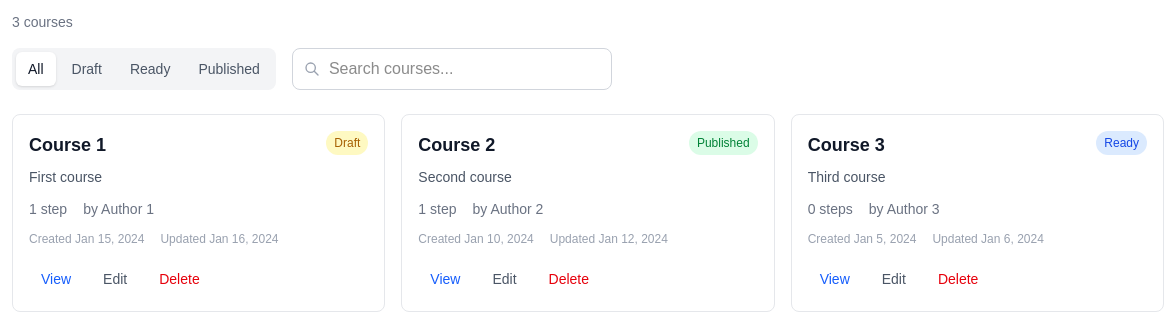
Test: CourseList › Status Filter › should filter by draft status
Step 1. Click the button "Draft" → (87, 69), box [60,52,114,86]
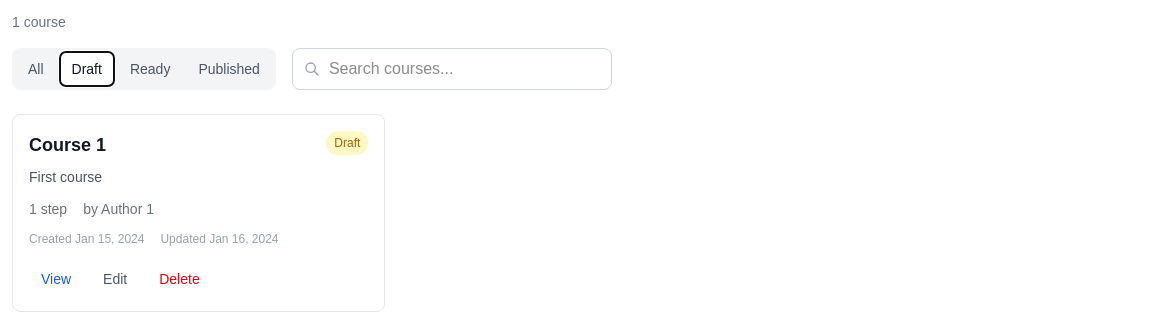
Expected: the heading "Course 1" is shown, [29,131,106,159]
Result: the heading "Course 2" is gone
Result: the heading "Course 3" is gone
